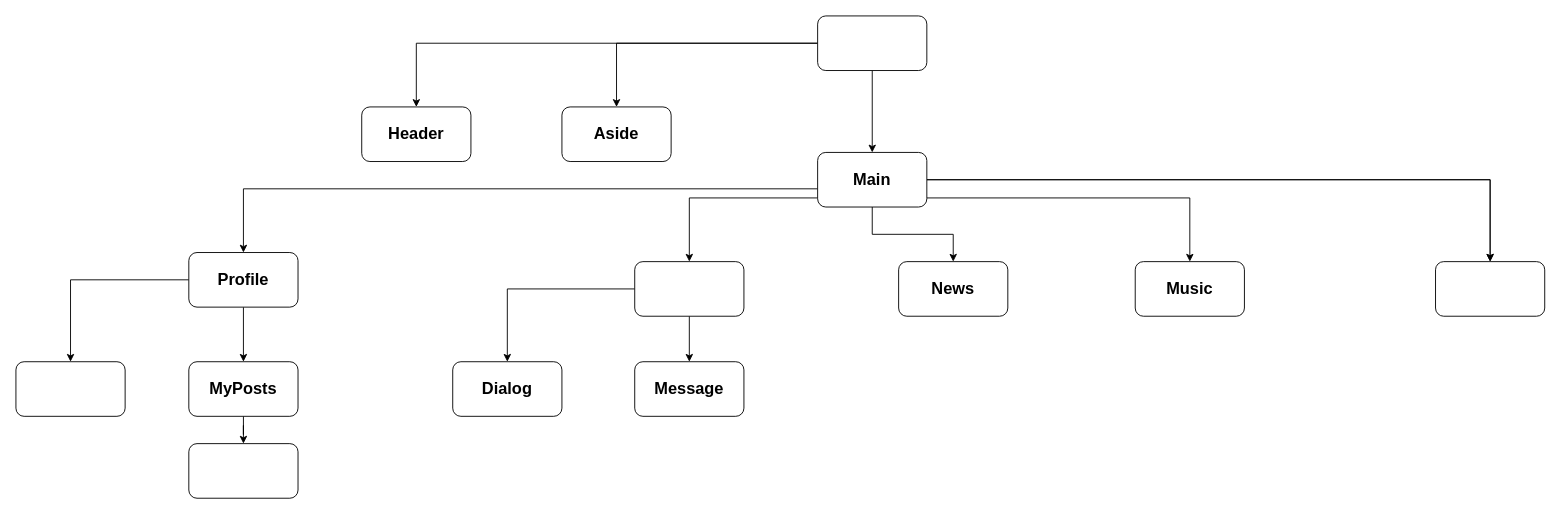
Image size: 1561x514. Some labels were removed from this diagram. Here are the shapes that lost their labels. From the top down, the centre of each, then its label:
At [872,43]: "App".
At [689,288]: "Dialogs".
At [1490,288]: "Settings".
At [70,388]: "ProfileInfo".
At [243,470]: "Post".
